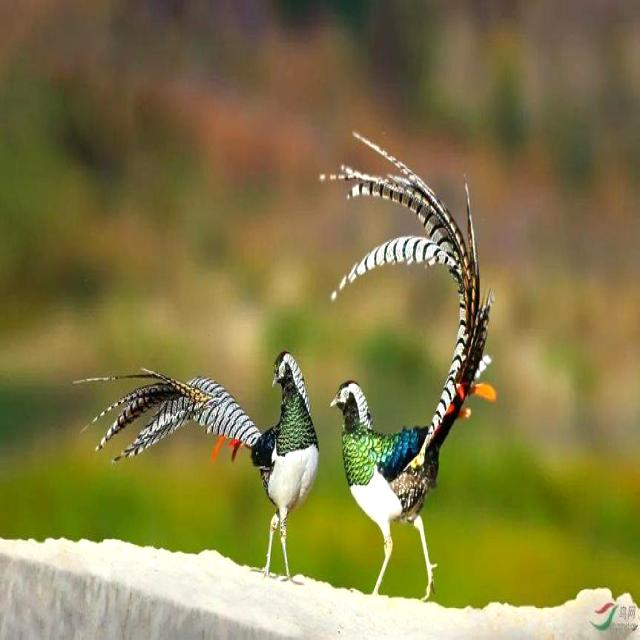Chrysolophus amherstiae: (321, 133, 492, 458), (93, 370, 262, 454)
